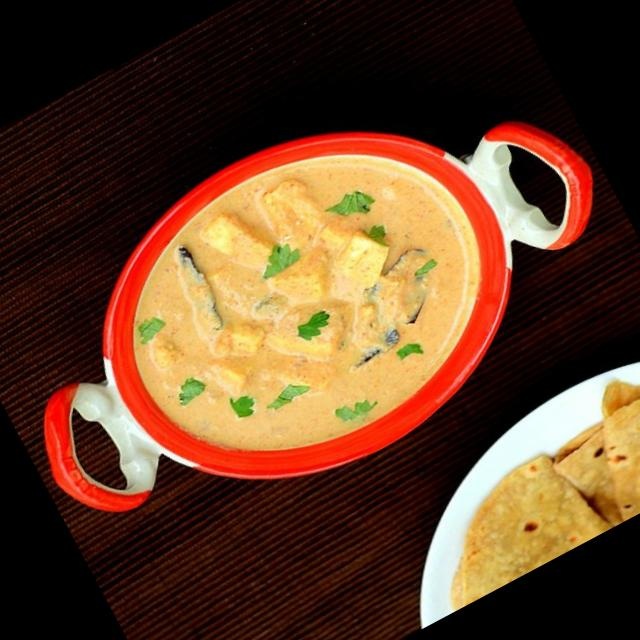ShahiPaneer: (83, 100, 530, 507)
